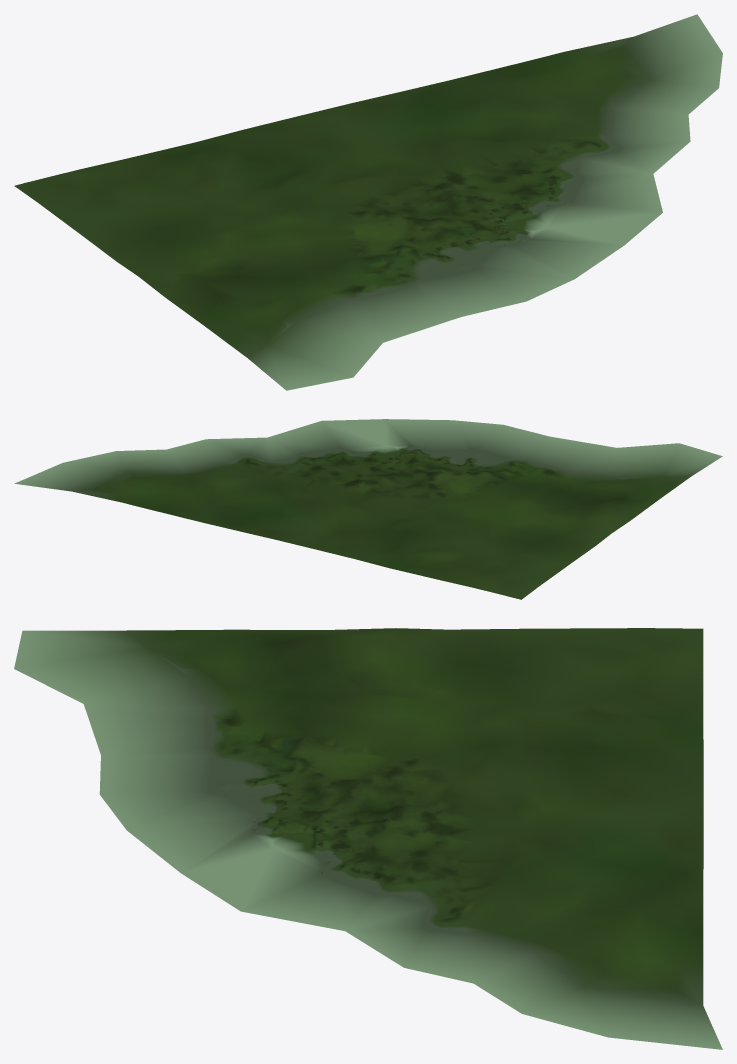
The model's file is eca_backdrop2.dae.
The picture shows the model from 3 angles, top to bottom: view 1: azimuth 30°, elevation 25°; view 2: azimuth 150°, elevation 25°; view 3: azimuth 270°, elevation 25°; orthographic projection. The views are drawn at different scales.
Visible parts, largest first — view 1: s_distant_terrain_L500; view 2: s_distant_terrain_L500; view 3: s_distant_terrain_L500.
Boxes of the visible parts, left/top/right/bottom form: s_distant_terrain_L500: left=14, top=14, right=722, bottom=390; s_distant_terrain_L500: left=14, top=419, right=722, bottom=599; s_distant_terrain_L500: left=14, top=628, right=722, bottom=1049.
Bounding box in the file's own units: 46081 × 32937 × 867.
